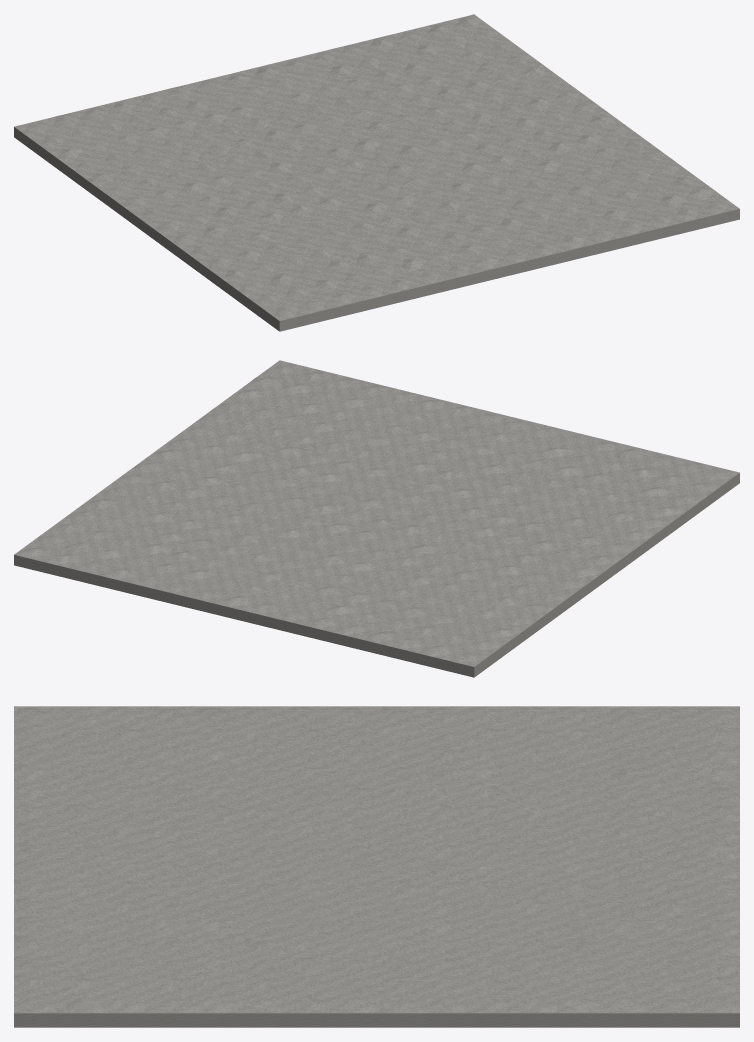
File: tactical-shooter-hill-town-cobbled-ground-tile-fde0e19b__27526.glb
The picture shows the model from 3 angles, top to bottom: view 1: azimuth 30°, elevation 25°; view 2: azimuth 150°, elevation 25°; view 3: azimuth 270°, elevation 25°; orthographic projection. The views are drawn at different scales.
Visible parts, largest first — view 1: cobbled-ground-tile; view 2: cobbled-ground-tile; view 3: cobbled-ground-tile.
Part boxes in pixels (<box>): cobbled-ground-tile: <box>14,14,739,331</box>; cobbled-ground-tile: <box>14,360,739,677</box>; cobbled-ground-tile: <box>14,706,739,1027</box>.
Size of the model in its own units: 4 by 0.1196 by 4.
Materials: 1 (1 with a texture image).
